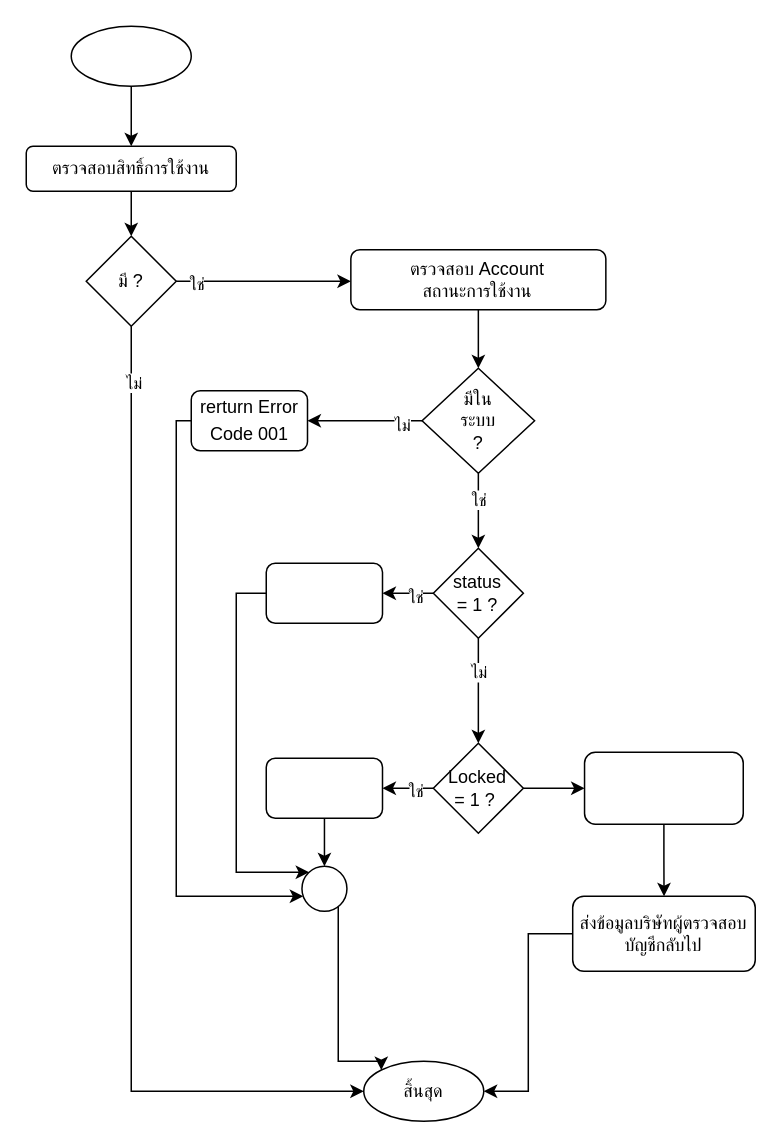
This 782x1148 diagram has some shape labels left out. Here are the shapes that lost their labels. From the top down, the box of each, then its label:
(70, 25, 191, 86): เริ่ม
(265, 562, 382, 623): rerturn Error Code 004
(265, 757, 382, 818): rerturn Error Code 011
(583, 751, 743, 824): ดึงข้อมูลบริษัทผู้ตรวจสอบบัญชีทั้งหมด
